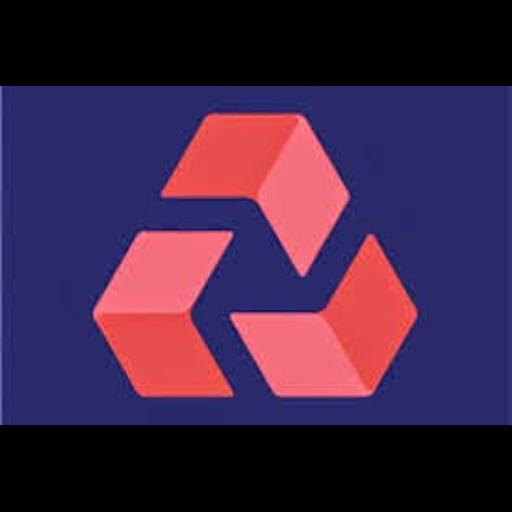NatWest Personal Banking: (0, 86, 512, 425)
